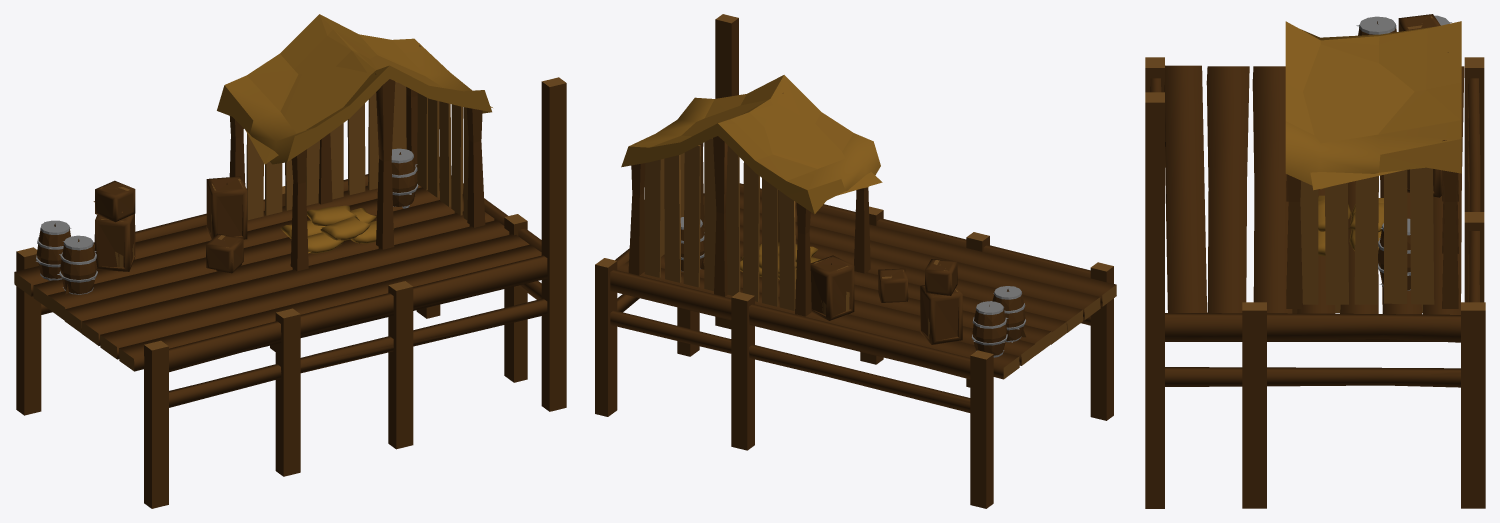
The model's file is Port_FirstAge_Level1.fbx.
3 renders of one model, left to right at view 1: azimuth 30°, elevation 25°; view 2: azimuth 150°, elevation 25°; view 3: azimuth 270°, elevation 25°, orthographic. The views are drawn at different scales.
Parts seen in each view (by area): view 1: High_Port_FirstAge_Level1, Low_Port_FirstAge_Level1; view 2: High_Port_FirstAge_Level1, Low_Port_FirstAge_Level1; view 3: High_Port_FirstAge_Level1, Low_Port_FirstAge_Level1.
Boxes of the visible parts, <box> form: High_Port_FirstAge_Level1: <box>14,14,566,508</box>; Low_Port_FirstAge_Level1: <box>36,55,545,394</box>; High_Port_FirstAge_Level1: <box>595,14,1116,508</box>; Low_Port_FirstAge_Level1: <box>617,99,1090,403</box>; High_Port_FirstAge_Level1: <box>1145,14,1485,508</box>; Low_Port_FirstAge_Level1: <box>1175,19,1469,374</box>.
Size of the model in its own units: 131 by 97.26 by 72.42.
